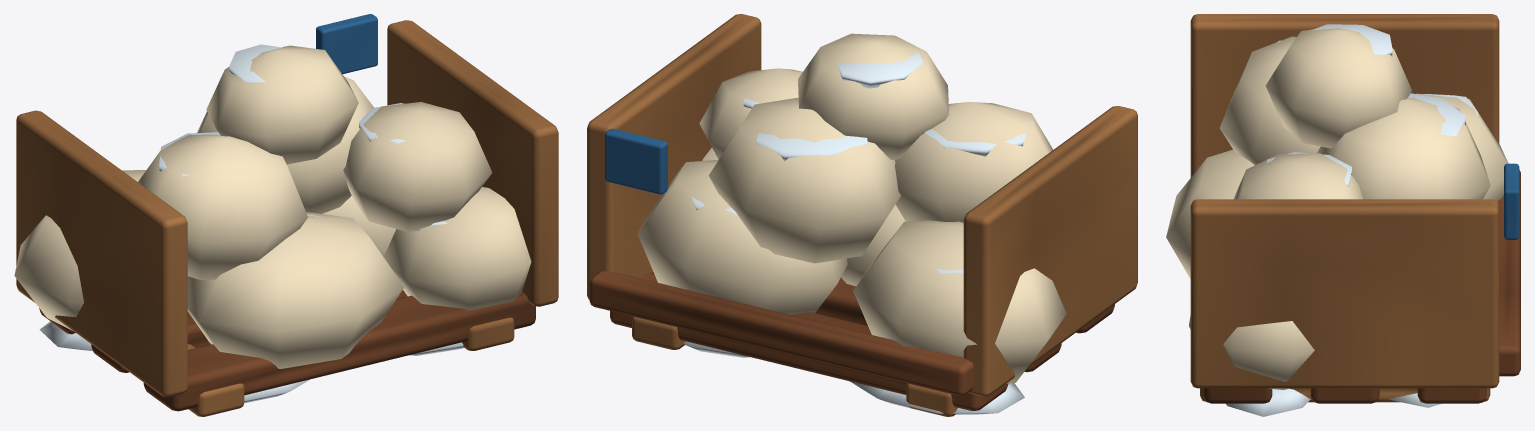
Rendered from stone_stack.glb.
3 renders of one model, left to right at view 1: azimuth 30°, elevation 25°; view 2: azimuth 150°, elevation 25°; view 3: azimuth 270°, elevation 25°, orthographic. The views are drawn at different scales.
Parts seen in each view (by area): view 1: stone_stack; view 2: stone_stack; view 3: stone_stack.
Boxes of the visible parts, left/top/right/bottom form: stone_stack: left=14, top=14, right=558, bottom=416; stone_stack: left=587, top=14, right=1137, bottom=416; stone_stack: left=1166, top=14, right=1520, bottom=416.
Bounding box in the file's own units: 1.69 × 1.07 × 1.15.
